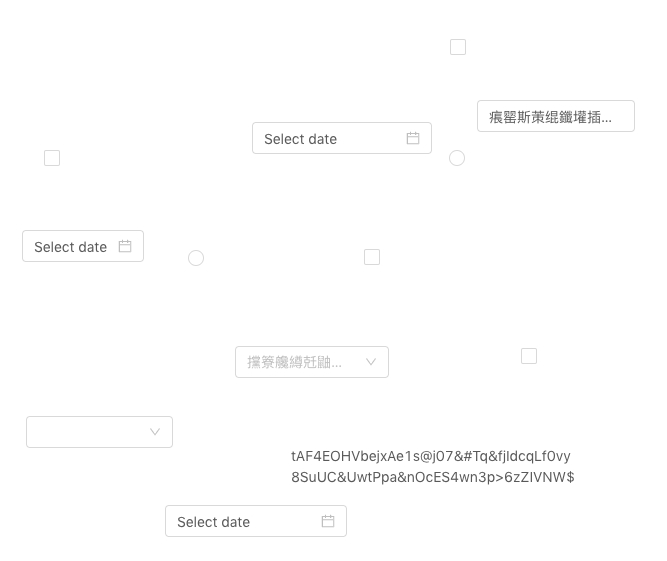Checkbox: (44, 147, 60, 168), (364, 246, 380, 267), (521, 345, 537, 366), (450, 36, 466, 57)
DatePicker: (165, 505, 347, 537), (252, 122, 432, 154), (22, 230, 144, 262)
Input: (477, 100, 635, 132)
Radio: (449, 147, 465, 167), (188, 247, 204, 267)
Select: (235, 346, 389, 378), (26, 416, 173, 448)
Text: (291, 445, 575, 490)
